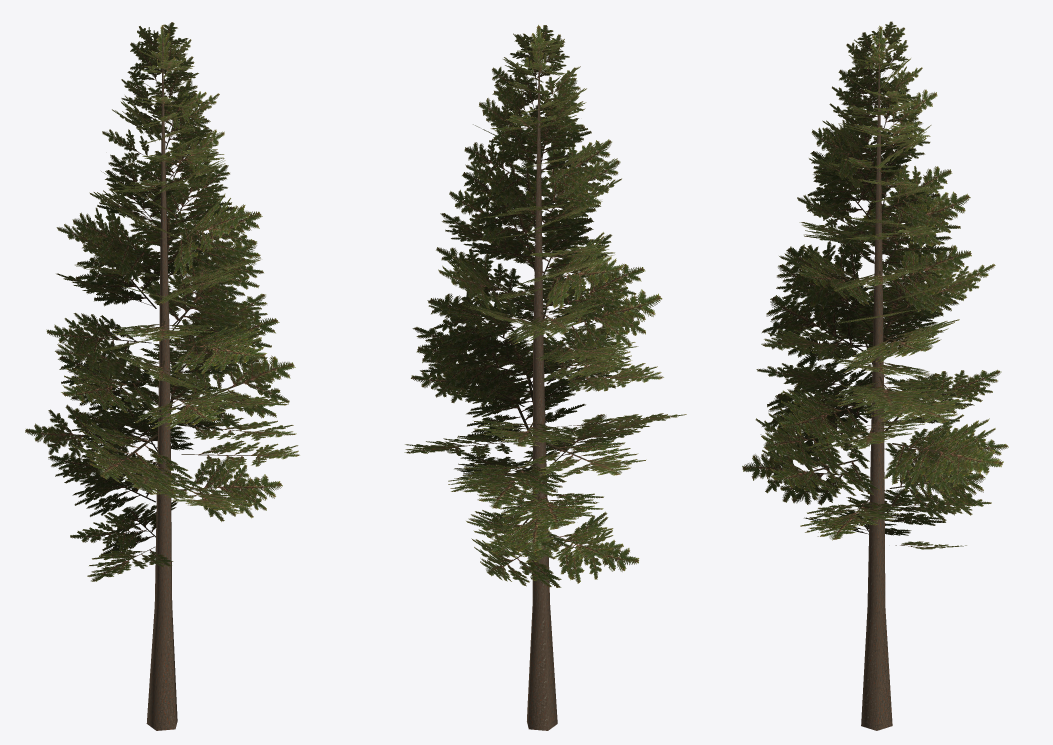
The model's file is fir_tall_a_lod4.gltf.
3 renders of one model, left to right at view 1: azimuth 30°, elevation 25°; view 2: azimuth 150°, elevation 25°; view 3: azimuth 270°, elevation 25°, orthographic.
Visible parts, largest first — view 1: fir_tall_a_LOD4; view 2: fir_tall_a_LOD4; view 3: fir_tall_a_LOD4.
Boxes of the visible parts, x1,y1,x2,y2 form: fir_tall_a_LOD4: (25, 22, 299, 730); fir_tall_a_LOD4: (404, 25, 686, 730); fir_tall_a_LOD4: (742, 21, 1008, 730).
Bounding box in the file's own units: 12.85 × 30.59 × 12.56.
2 materials, 2 textured.
